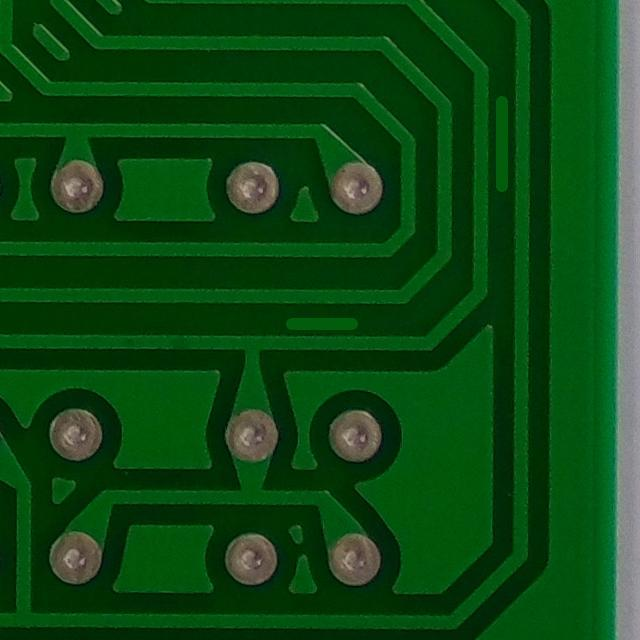spurious_copper: (267, 295, 374, 346)
